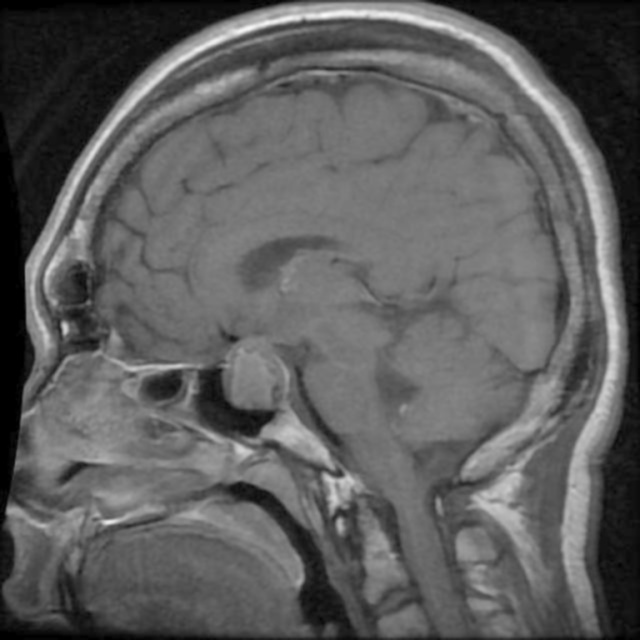no tumor: (216, 330, 299, 412)
